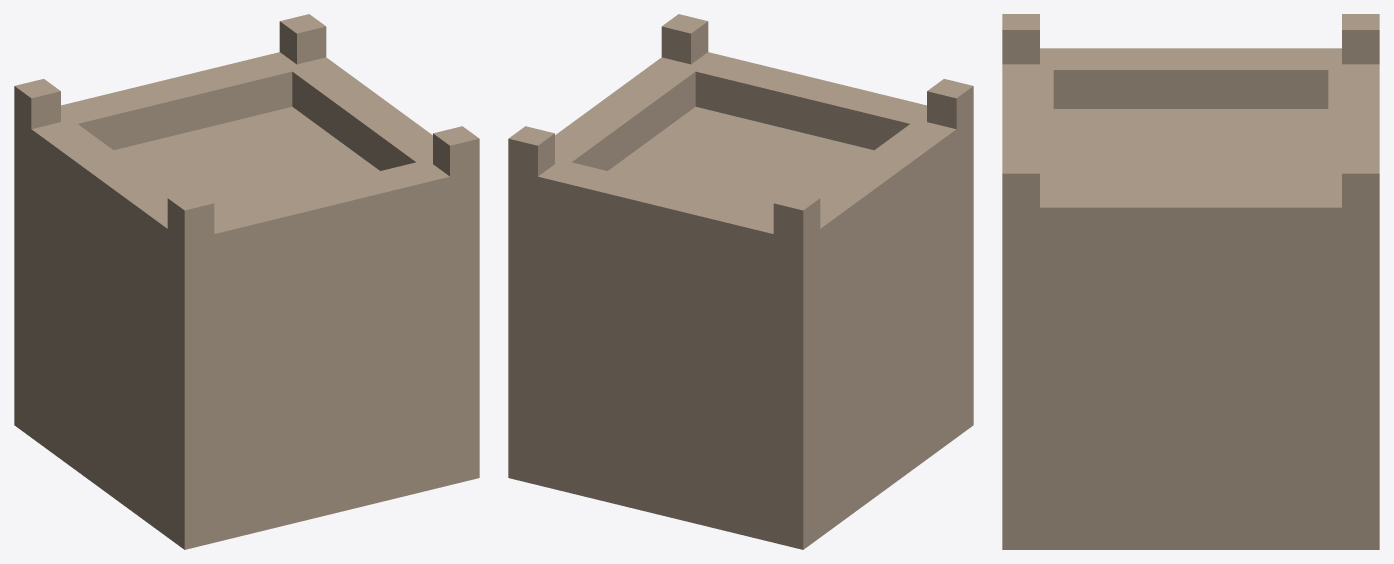
Rendered from castle.fbx.
3 views of the same model, side by side, from view 1: azimuth 30°, elevation 25°; view 2: azimuth 150°, elevation 25°; view 3: azimuth 270°, elevation 25° (orthographic). The views are drawn at different scales.
Parts seen in each view (by area): view 1: Cube_Cube.005, Cube.004_Cube.001, Cube.004_Cube.003, Cube.004_Cube.002, Cube.004_Cube.000; view 2: Cube_Cube.005, Cube.004_Cube.000, Cube.004_Cube.002, Cube.004_Cube.003, Cube.004_Cube.001; view 3: Cube_Cube.005, Cube.004_Cube.003, Cube.004_Cube.002, Cube.004_Cube.001, Cube.004_Cube.000.
Part boxes in pixels (x1,y1,x2,y2): Cube_Cube.005: [14, 52, 479, 549]; Cube.004_Cube.001: [167, 191, 214, 241]; Cube.004_Cube.003: [279, 14, 326, 64]; Cube.004_Cube.002: [433, 126, 479, 176]; Cube.004_Cube.000: [14, 79, 60, 129]; Cube_Cube.005: [508, 52, 973, 549]; Cube.004_Cube.000: [773, 191, 820, 241]; Cube.004_Cube.002: [661, 14, 708, 64]; Cube.004_Cube.003: [508, 126, 554, 176]; Cube.004_Cube.001: [927, 79, 973, 129]; Cube_Cube.005: [1002, 48, 1379, 549]; Cube.004_Cube.003: [1342, 157, 1379, 207]; Cube.004_Cube.002: [1002, 157, 1039, 207]; Cube.004_Cube.001: [1002, 14, 1039, 64]; Cube.004_Cube.000: [1342, 14, 1379, 64].
Size of the model in its own units: 200 by 220 by 200.
